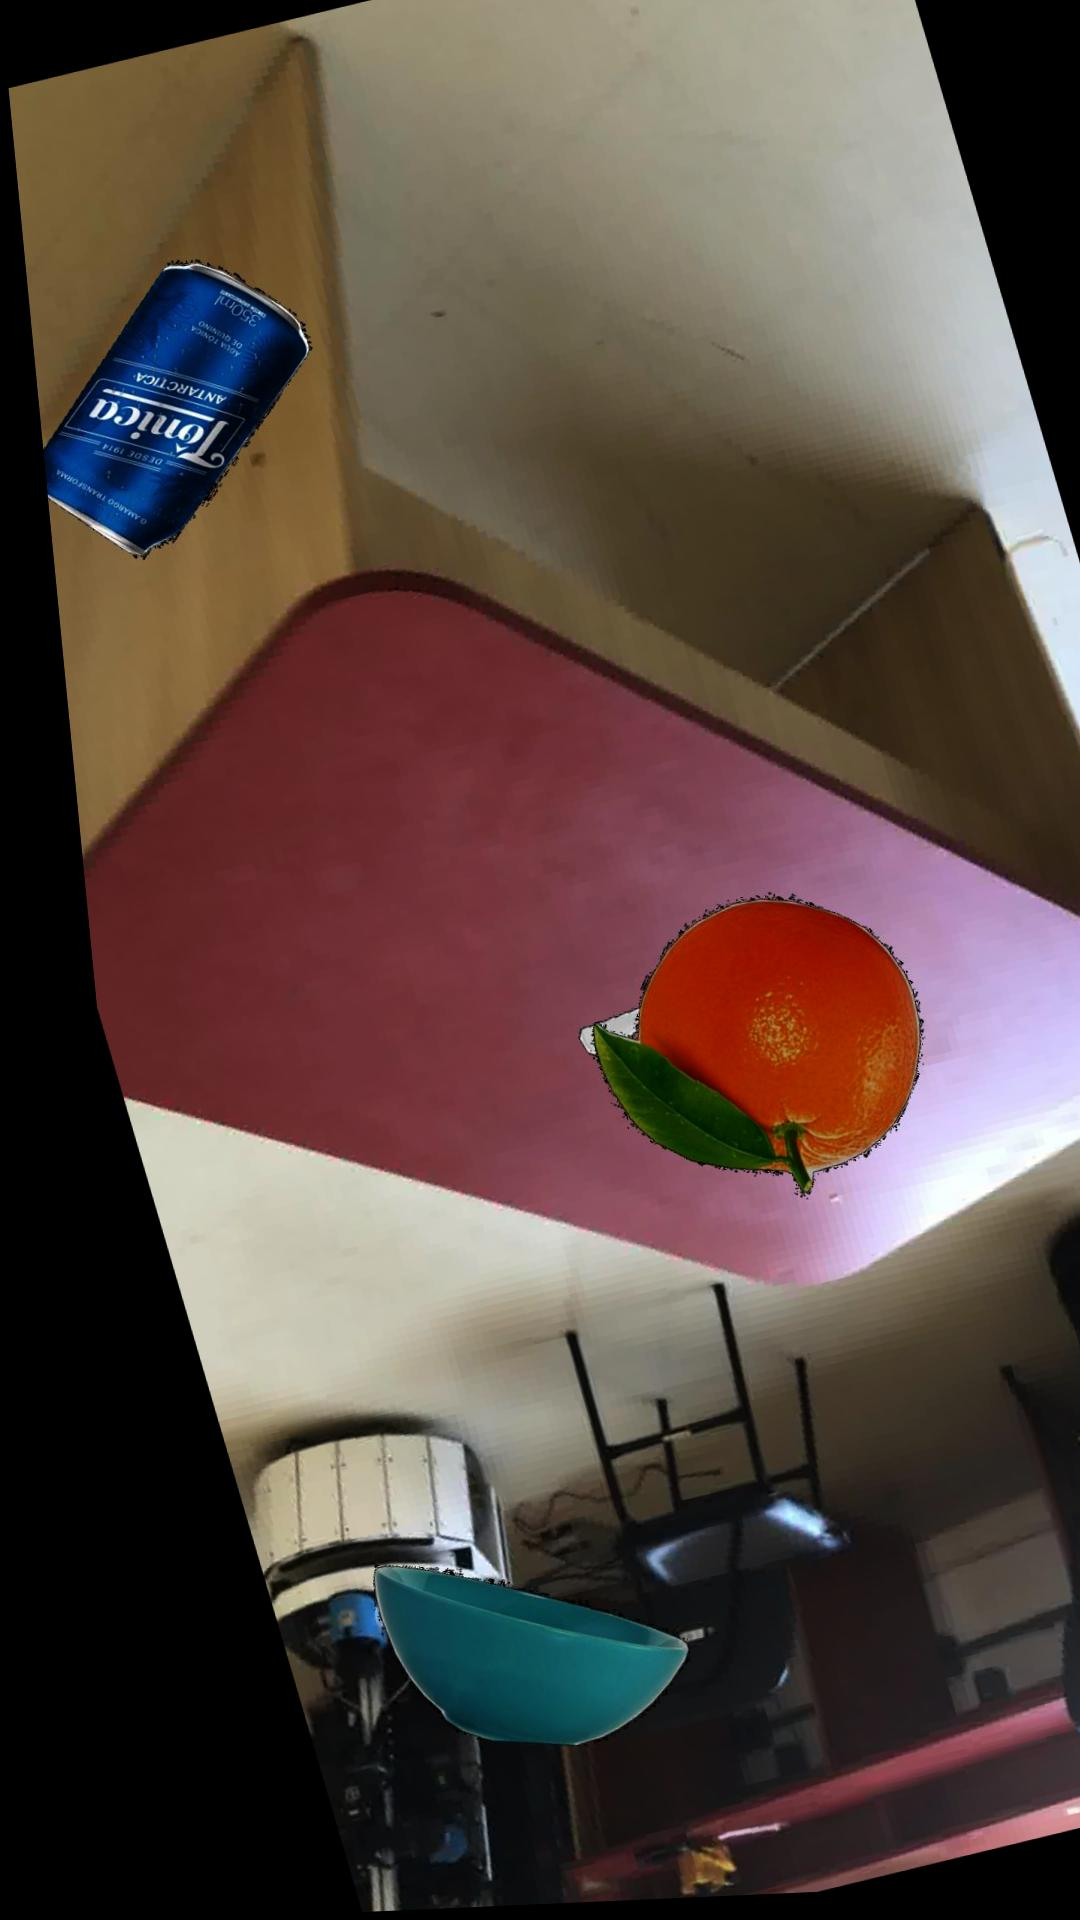bowl: (342, 1568, 657, 1750)
fork: (558, 1011, 618, 1062)
orange: (570, 903, 903, 1201)
tonic: (34, 264, 306, 560)
